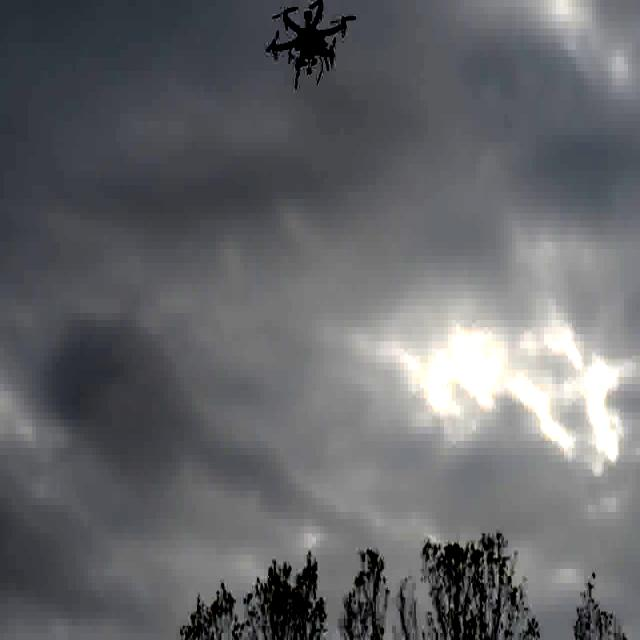drone: (266, 0, 354, 103)
